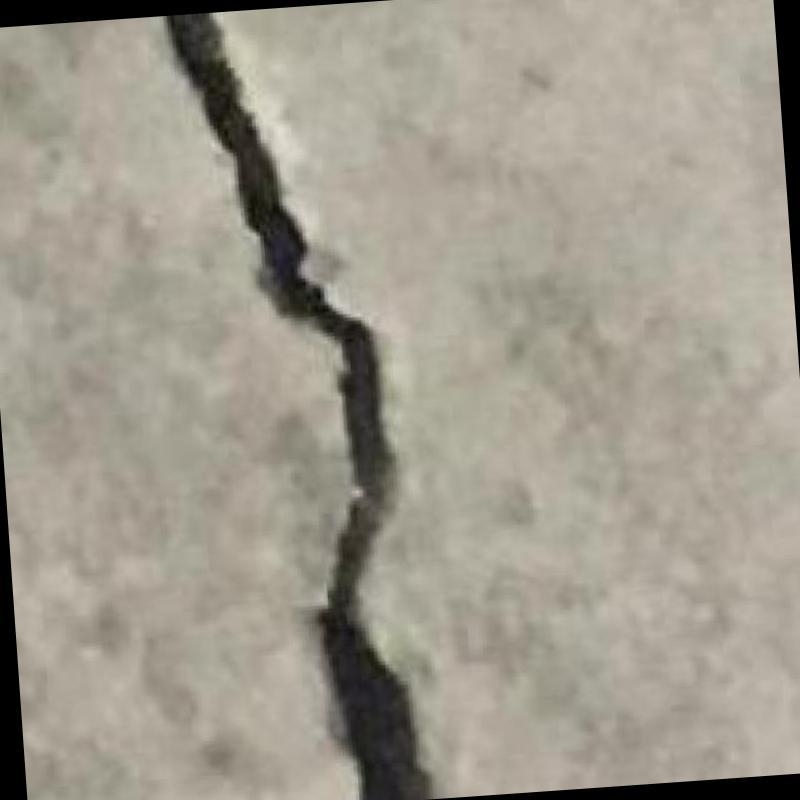pothole: (165, 12, 429, 800)
